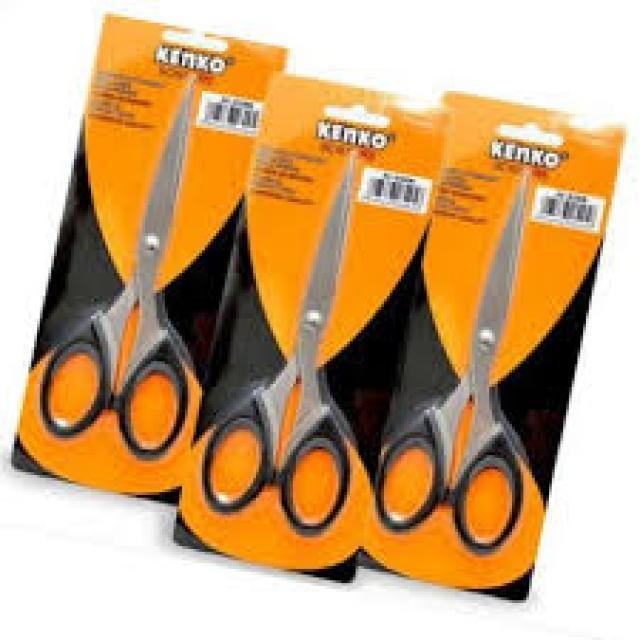Scissors: (28, 46, 217, 528), (180, 133, 391, 550), (362, 159, 562, 581)
